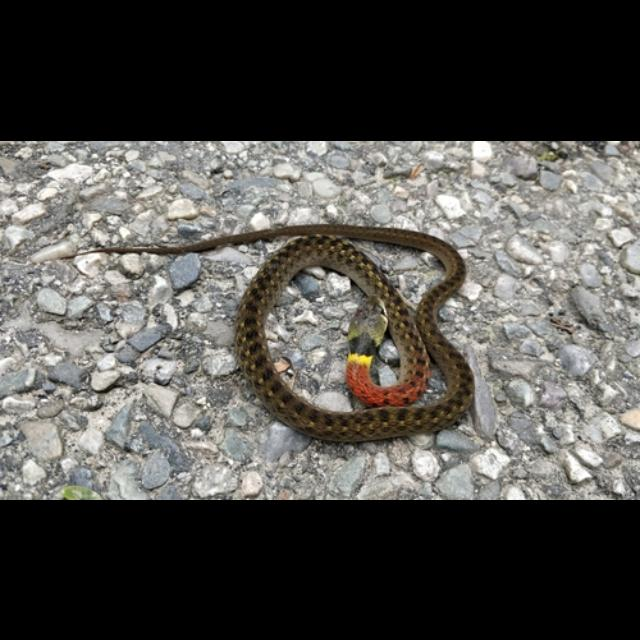snake: (61, 219, 486, 446)
